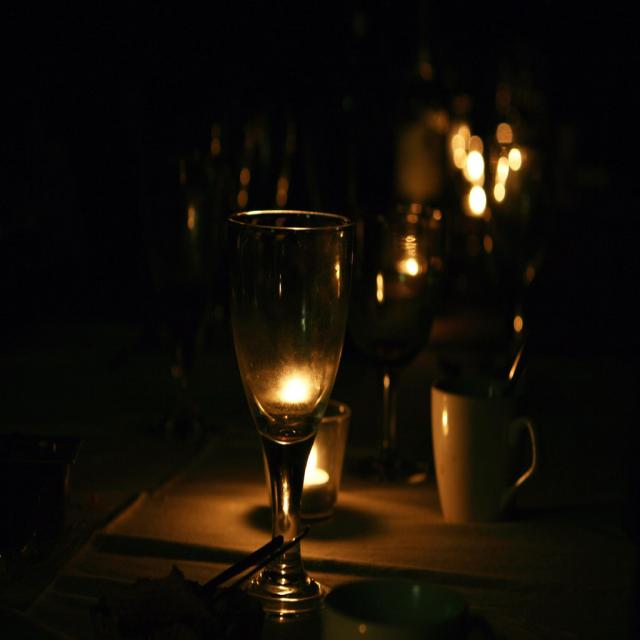Cup: (219, 197, 344, 621), (428, 343, 542, 527), (365, 193, 426, 487), (272, 409, 369, 527)
Table: (0, 269, 640, 640)
